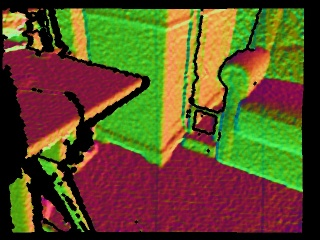station: (183, 106, 226, 158)
